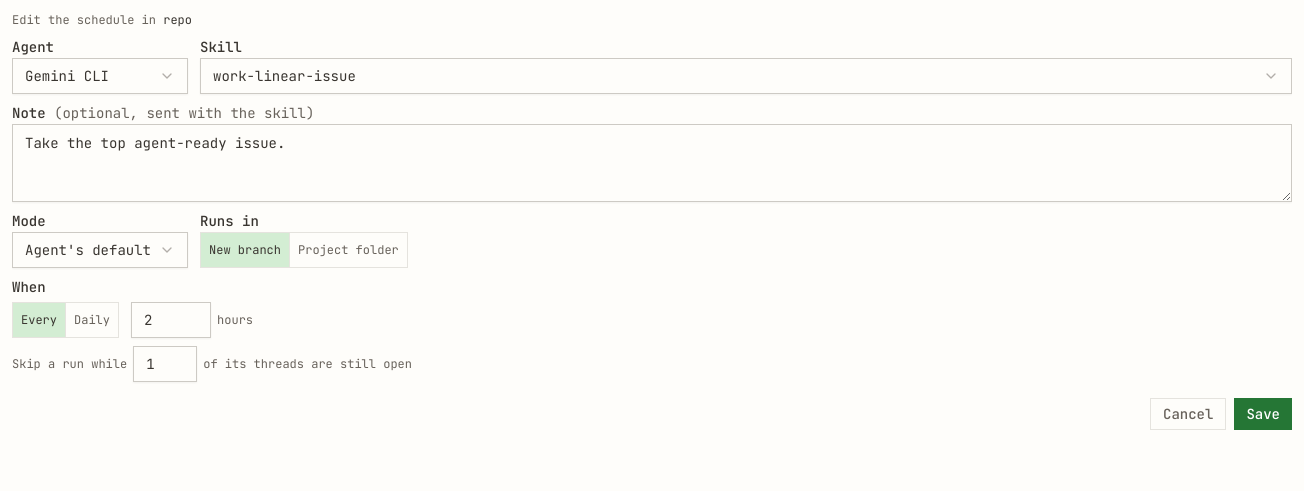
Test: ScheduleForm › shows main's reason when a save is refused
Click the button "Save": coordinates (1263, 414) [1234, 398, 1292, 430]
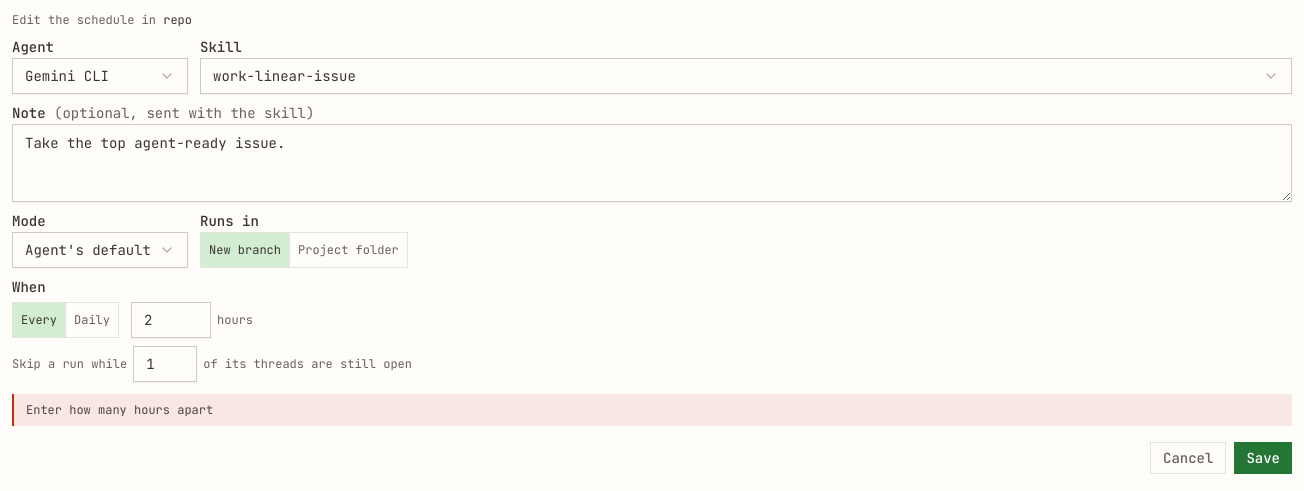
Expected: the text "Enter how many hours apart" is shown, [26, 402, 213, 418]
